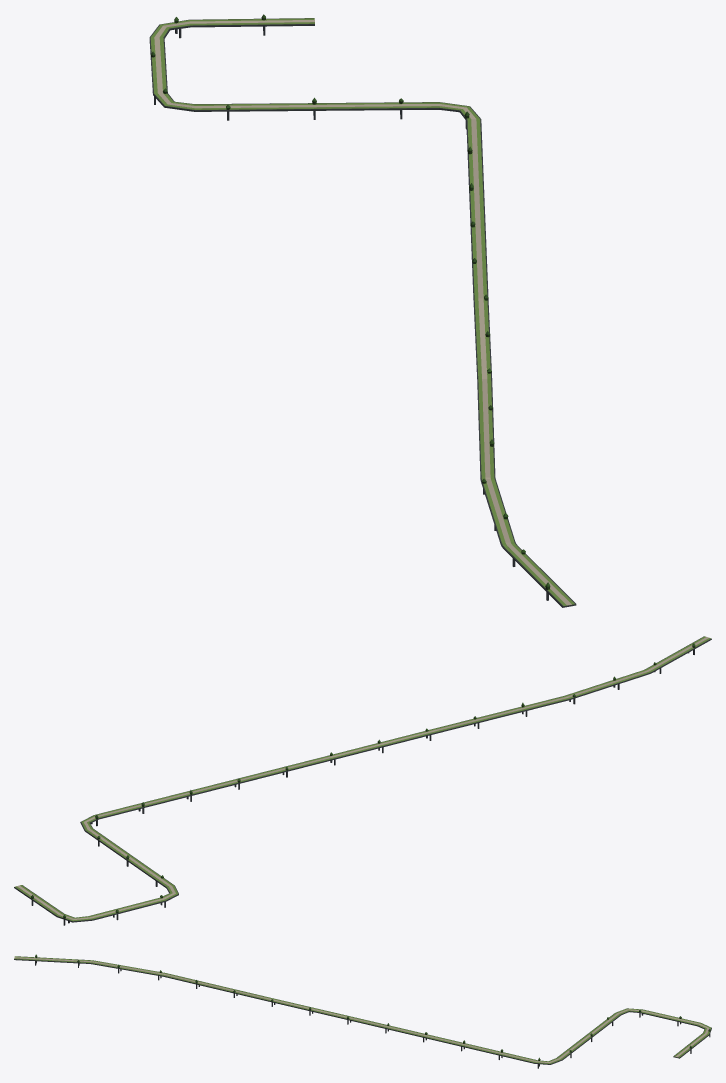
3 renders of one model, top to bottom at view 1: azimuth 30°, elevation 25°; view 2: azimuth 150°, elevation 25°; view 3: azimuth 270°, elevation 25°, orthographic. The views are drawn at different scales.
Parts seen in each view (by area): view 1: high-line-lod2; view 2: high-line-lod2; view 3: high-line-lod2.
Boxes of the visible parts, box(x1,y1,x2,y2) form: high-line-lod2: box(149, 14, 576, 607); high-line-lod2: box(14, 636, 711, 925); high-line-lod2: box(14, 954, 711, 1068).
Size of the model in its own units: 680 by 26.96 by 1856.
